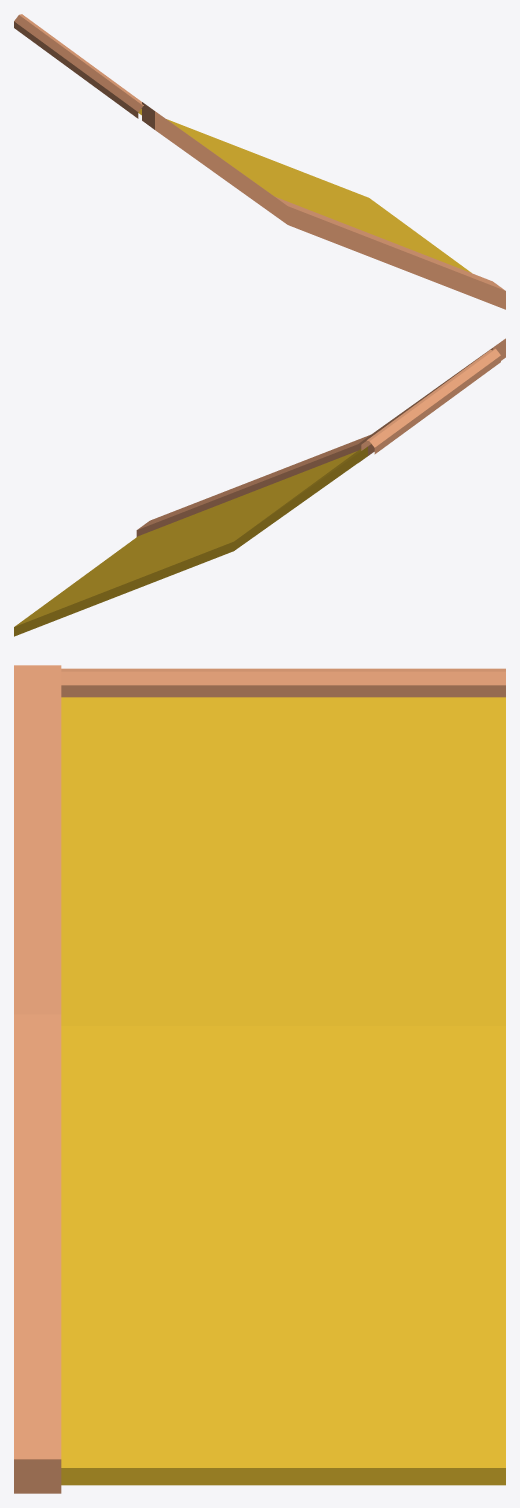
File: Roof_medium.fbx
The picture shows the model from 3 angles, top to bottom: view 1: azimuth 30°, elevation 25°; view 2: azimuth 150°, elevation 25°; view 3: azimuth 270°, elevation 25°; orthographic projection. The views are drawn at different scales.
Visible parts, largest first — view 1: Cube.085, Cube.084, Cube.145; view 2: Cube.084, Cube.085, Cube.145; view 3: Cube.084, Cube.085, Cube.145.
Part boxes in pixels (left/top/right/bottom): Cube.085: left=142, top=102, right=505, bottom=309; Cube.084: left=138, top=108, right=471, bottom=272; Cube.145: left=14, top=14, right=143, bottom=118; Cube.084: left=14, top=446, right=367, bottom=636; Cube.085: left=136, top=338, right=505, bottom=536; Cube.145: left=361, top=348, right=500, bottom=454; Cube.084: left=61, top=697, right=505, bottom=1485; Cube.085: left=14, top=665, right=61, bottom=1493; Cube.145: left=61, top=668, right=505, bottom=697.
Size of the model in its own units: 746 by 568 by 490.
